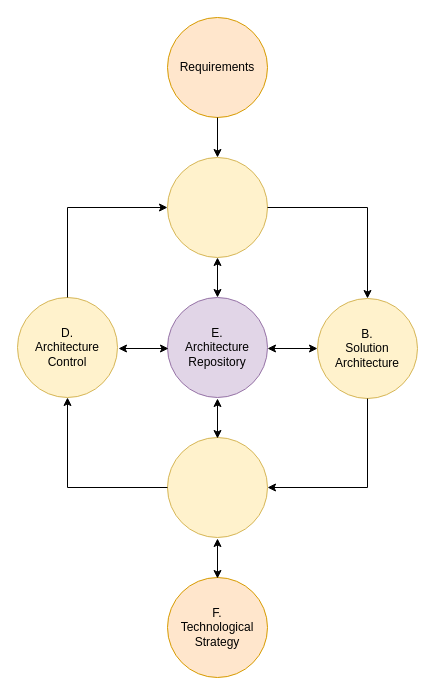
Image size: 435x695. Some labels were removed from this diagram. The centre of each missing label's shape, as x and y in pixels:
A. Business Context Analysis: the point at 217,207
C. Architecture Decision: the point at 217,487
